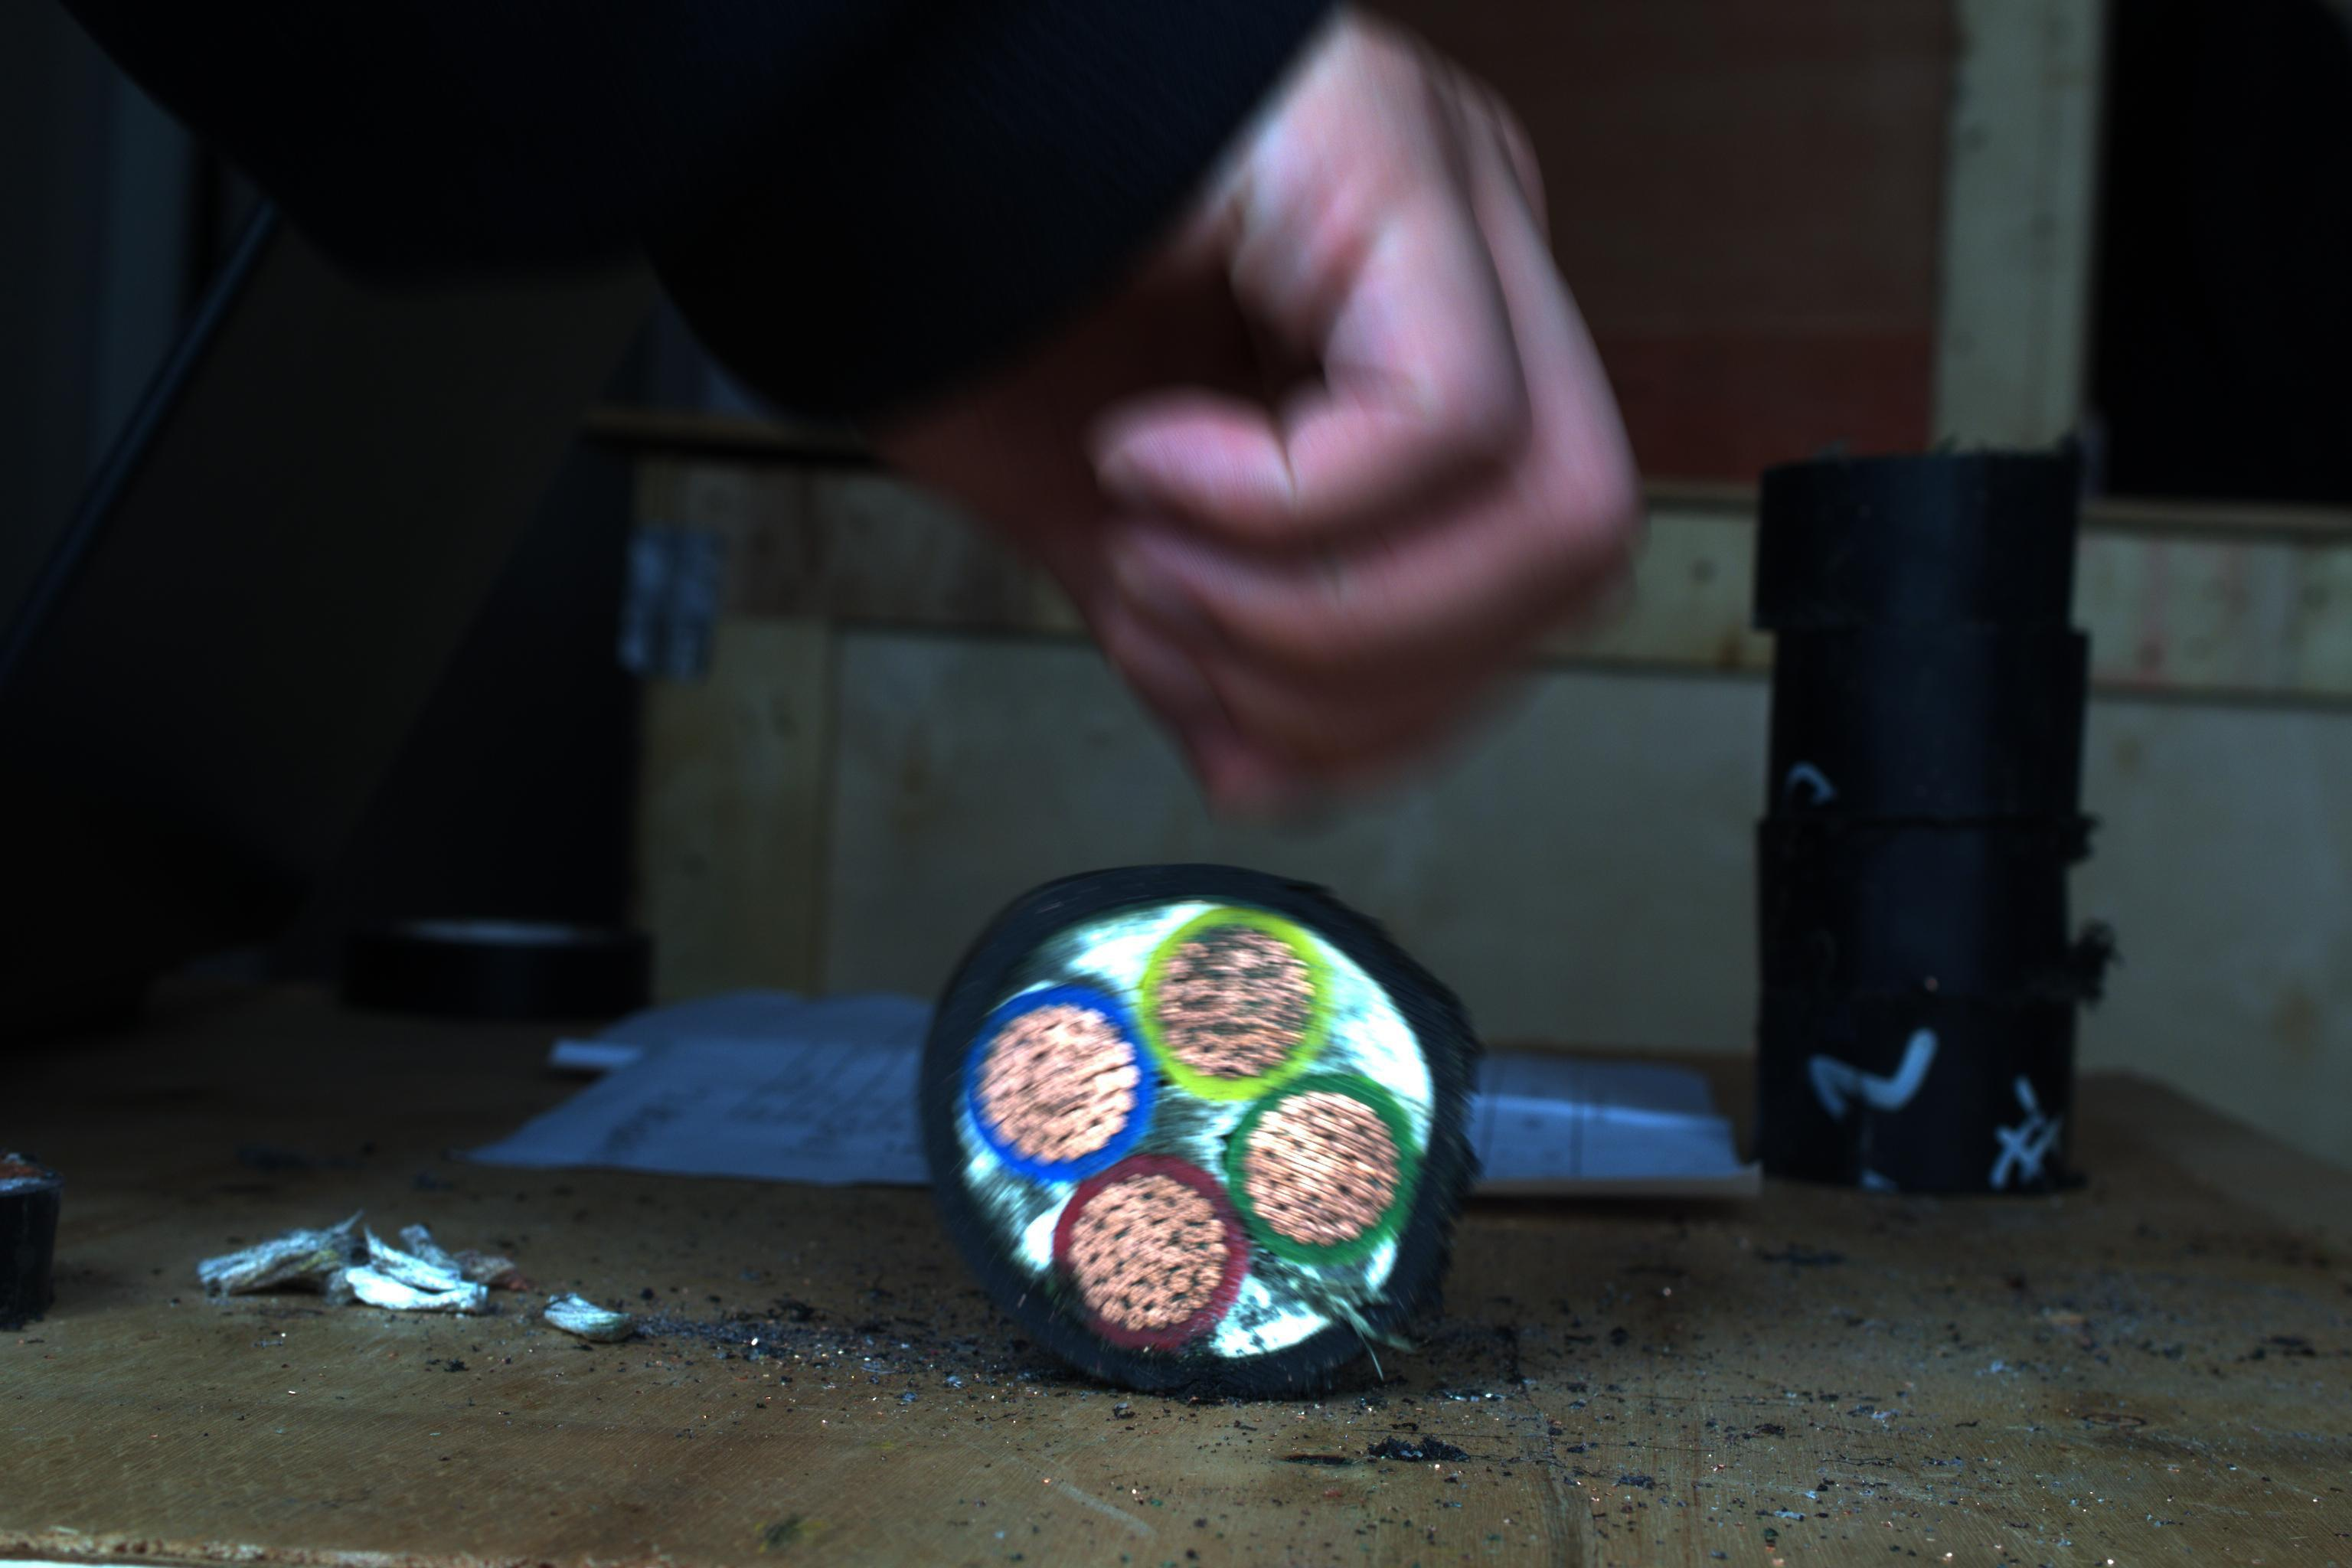YJV_0.6_1kV_4x185: (929, 864, 1458, 1361)
